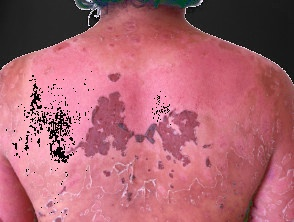SJS-TEN: (0, 12, 293, 221)
